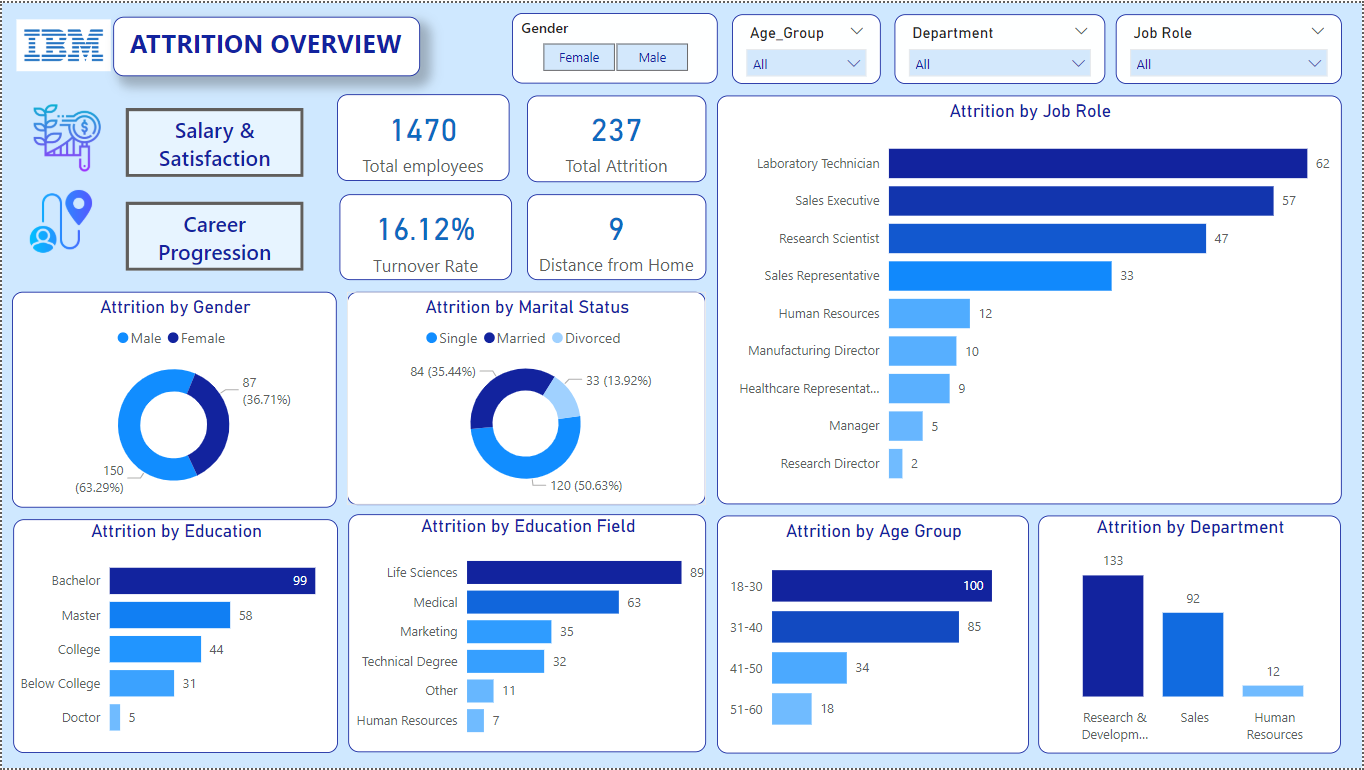

This screenshot's page, from the dashboard's own definition file:
{"tool":"powerbi","page":{"name":"Turnover Overview","canvas":[1280,720],"ordinal":0},"visuals":[{"type":"card","fields":{"Values":["Measures (2).Turnover Rate"]},"box":[317.9,179.8,162.6,80.7],"z":0},{"type":"clusteredBarChart","title":"Attrition by Age Group","fields":{"Category":["employee.Age_Group"],"Y":["Measures (2).Total Attrition"]},"box":[672.6,481.8,293.5,223.8],"z":1000},{"type":"clusteredBarChart","title":"Attrition by Education","fields":{"Y":["Measures (2).Total Attrition"],"Category":["education.Education"]},"box":[10,485.7,305.7,220],"z":2000},{"type":"clusteredBarChart","title":"Attrition by Education Field","fields":{"Y":["Measures (2).Total Attrition"],"Category":["education.EducationField"]},"box":[325.7,481.4,337.1,224.3],"z":3000},{"type":"donutChart","title":"Attrition by Gender","fields":{"Y":["Measures (2).Total Attrition"],"Category":["employee.Gender"]},"box":[9.8,271.5,305.7,203],"z":4000},{"type":"columnChart","title":"Attrition by Department","fields":{"Category":["work.Department"],"Y":["Measures (2).Total Attrition"]},"box":[975.8,481.8,284.9,223.8],"z":5000},{"type":"barChart","title":" Attrition by Job Role","fields":{"Category":["job.JobRole"],"Y":["Measures (2).Total Attrition"]},"box":[672.6,86.8,588.2,385.2],"z":6000},{"type":"card","fields":{"Values":["Measures (2).Total Attrition"]},"box":[494,86.8,168.8,81.9],"z":7000},{"type":"image","box":[0,10,115.7,58.6],"z":8000},{"type":"card","fields":{"Values":["Measures (2).Total employees"]},"box":[315.5,85.6,162.6,81.9],"z":9000},{"type":"card","fields":{"Values":["Measures (2).Distance from Home"]},"box":[494,179.8,168.8,80.7],"z":10000},{"type":"donutChart","title":"Attrition by Marital Status","fields":{"Y":["Measures (2).Total Attrition"],"Category":["employee.MaritalStatus"]},"box":[325.3,271.5,337.5,200.5],"z":11000},{"type":"slicer","fields":{"Values":["work.Department"]},"box":[840,10,198.6,65.7],"z":12000},{"type":"slicer","fields":{"Values":["job.JobRole"]},"box":[1048.6,10,212.9,65.7],"z":13000},{"type":"slicer","title":"Gender","fields":{"Values":["employee.Gender"]},"box":[480.6,9.8,193.2,66],"z":14000},{"type":"slicer","fields":{"Values":["employee.Age_Group"]},"box":[687.1,10,140,65.7],"z":15000},{"type":"textbox","box":[104.3,12.9,288.6,55.7],"z":16000},{"type":"image","box":[10.5,90.7,102.3,73.3],"z":16001},{"type":"image","box":[5.8,167.4,98.8,76.7],"z":16002},{"type":"actionButton","box":[116.3,98.8,167.4,65.1],"z":16003},{"type":"actionButton","box":[116.3,187.2,167.4,65.1],"z":16004}]}

Visuals, with their boxes in screenshot pixels (x1, y1, x2, y2), scaled from the page's 1280x720 canvas onto the 1364x770 screenshot:
card - Measures (2).Turnover Rate: [339, 192, 512, 279]
"Attrition by Age Group" clusteredBarChart: [717, 515, 1030, 755]
"Attrition by Education" clusteredBarChart: [11, 519, 336, 755]
"Attrition by Education Field" clusteredBarChart: [347, 515, 706, 755]
"Attrition by Gender" donutChart: [10, 290, 336, 507]
"Attrition by Department" columnChart: [1040, 515, 1343, 755]
" Attrition by Job Role" barChart: [717, 93, 1344, 505]
card - Measures (2).Total Attrition: [526, 93, 706, 180]
image: [0, 11, 123, 73]
card - Measures (2).Total employees: [336, 92, 509, 179]
card - Measures (2).Distance from Home: [526, 192, 706, 279]
"Attrition by Marital Status" donutChart: [347, 290, 706, 505]
slicer - work.Department: [895, 11, 1107, 81]
slicer - job.JobRole: [1117, 11, 1344, 81]
"Gender" slicer: [512, 10, 718, 81]
slicer - employee.Age_Group: [732, 11, 881, 81]
textbox: [111, 14, 419, 73]
image: [11, 97, 120, 175]
image: [6, 179, 111, 261]
actionButton: [124, 106, 302, 175]
actionButton: [124, 200, 302, 270]
